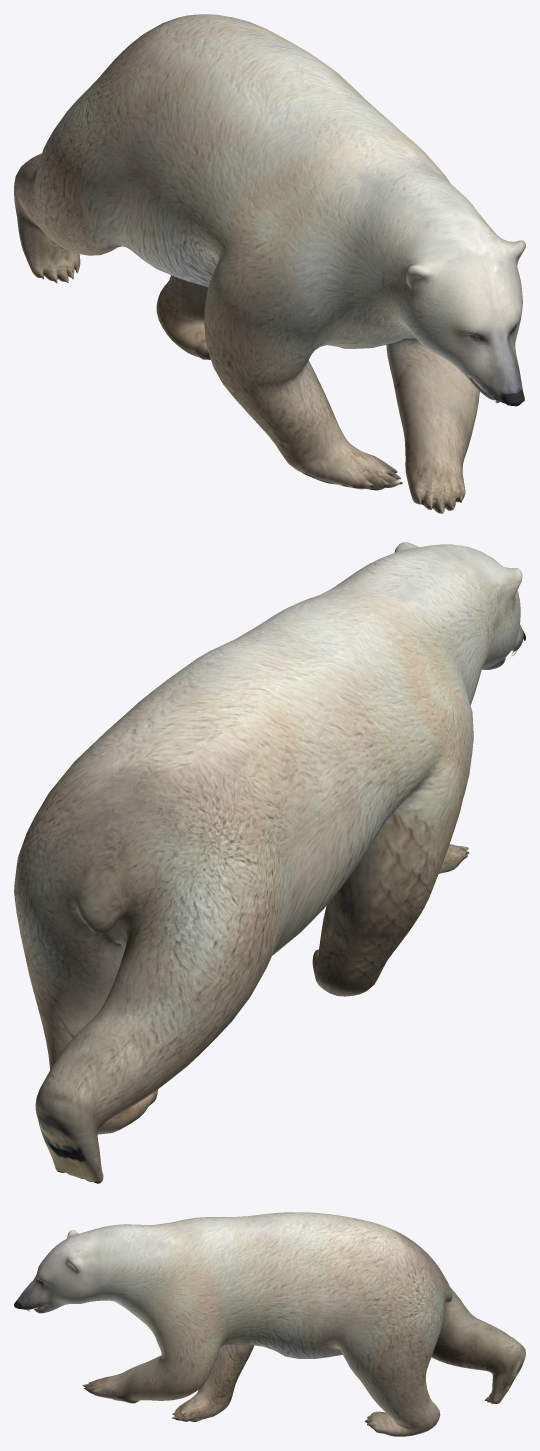
The model's file is polarbear.obj.
3 renders of one model, top to bottom at view 1: azimuth 30°, elevation 25°; view 2: azimuth 150°, elevation 25°; view 3: azimuth 270°, elevation 25°, orthographic. The views are drawn at different scales.
Parts seen in each view (by area): view 1: Mesh_0; view 2: Mesh_0; view 3: Mesh_0.
Boxes of the visible parts, box(x1,y1,x2,y2) form: Mesh_0: box(14, 14, 525, 513); Mesh_0: box(14, 542, 525, 1183); Mesh_0: box(14, 1212, 525, 1436).
Bounding box in the file's own units: 0.7399 × 1.12 × 2.51.
1 material, 1 textured.
